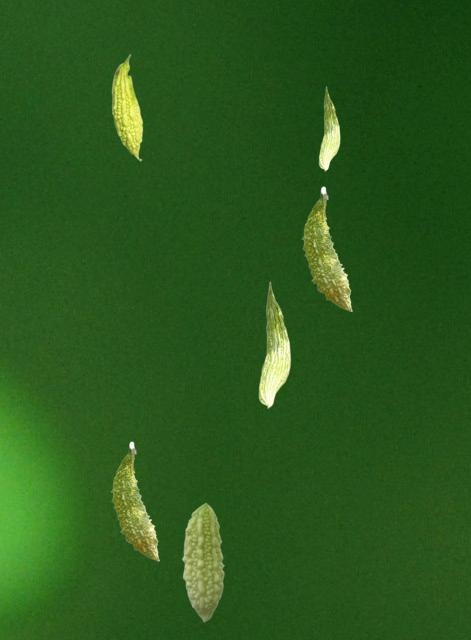ampalaya: (301, 186, 352, 312), (110, 441, 160, 561), (181, 502, 224, 622), (258, 281, 291, 409), (111, 53, 143, 162), (318, 86, 340, 171)
